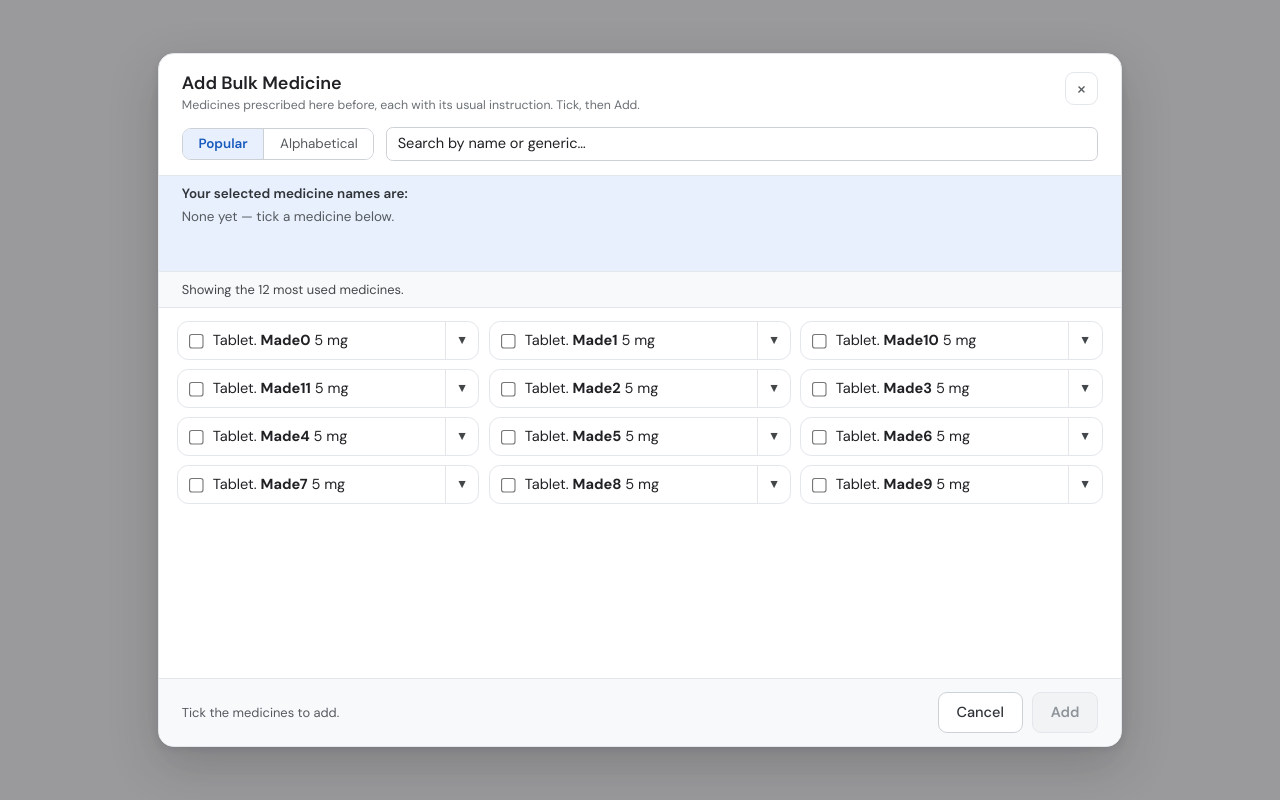
Scenario: BulkMedicineModal › with the list cut at its cap, no match is said of what is shown — the medicine may be among the rest
Type "zzz" into the field named "Search medicines" at {"x": 742, "y": 144}, box [386,127,1098,161]
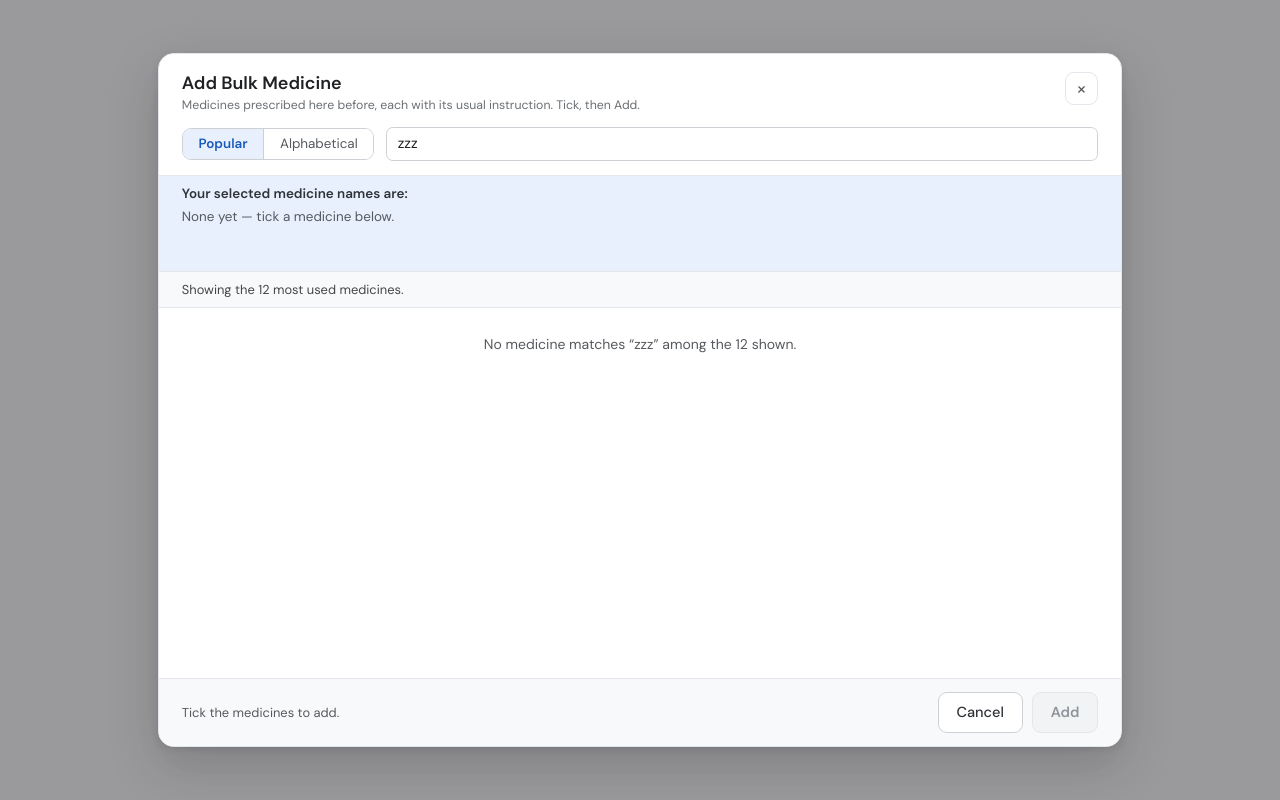
Check: the dialog "Add Bulk Medicine" shows "No medicine matches “zzz” among the 12 shown."
